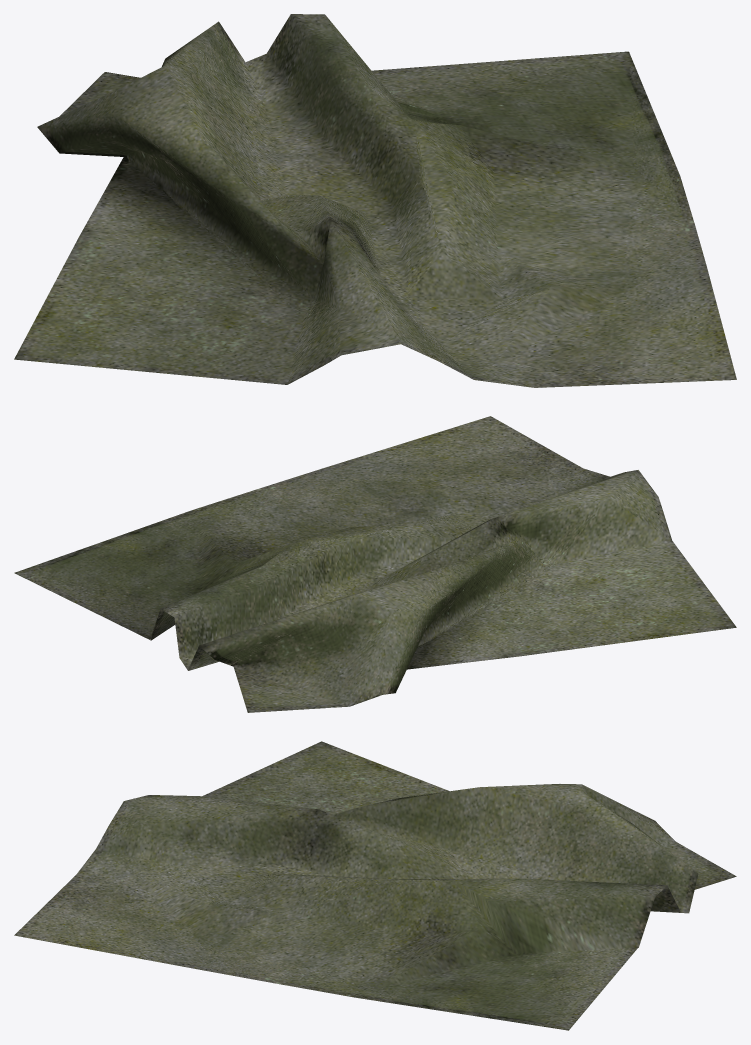
File: TowelE.fbx
3 renders of one model, top to bottom at view 1: azimuth 30°, elevation 25°; view 2: azimuth 150°, elevation 25°; view 3: azimuth 270°, elevation 25°, orthographic. The views are drawn at different scales.
Parts seen in each view (by area): view 1: TowelE; view 2: TowelE; view 3: TowelE.
Part boxes in pixels (x1,y1,x2,y2): TowelE: [14, 14, 736, 387]; TowelE: [14, 416, 736, 712]; TowelE: [14, 741, 736, 1030].
Bounding box in the file's own units: 61.08 × 6.83 × 64.51.
